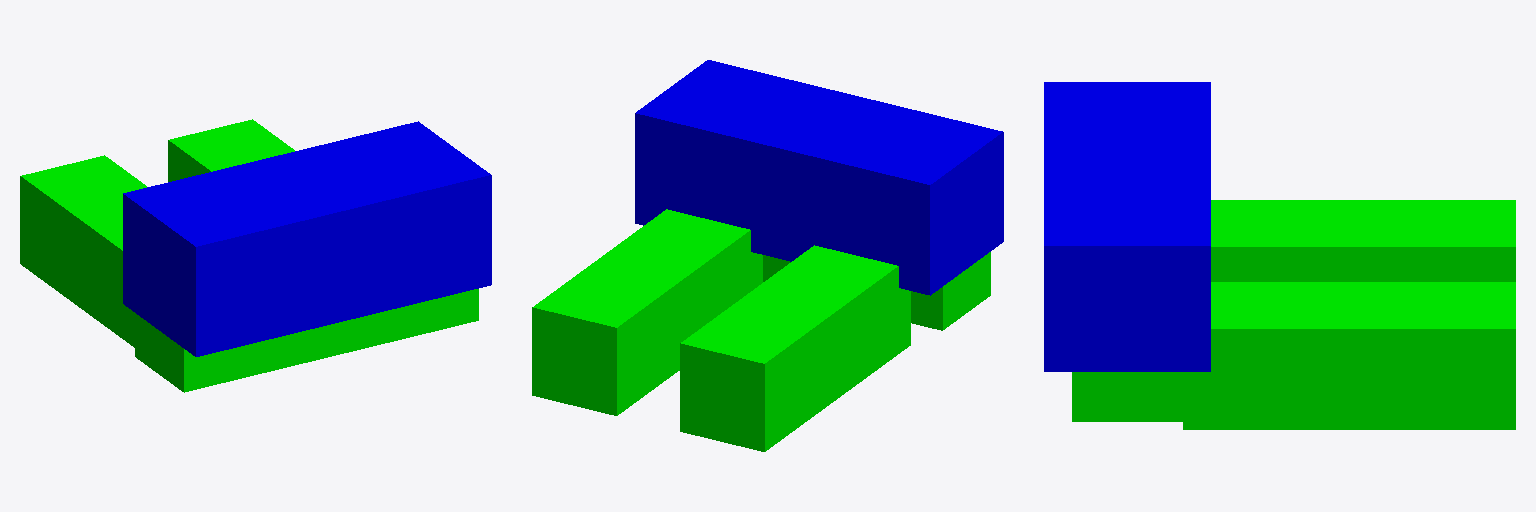
URDF robot description (robot):
<robot name = "robot">
    <link name="root">
        <inertial>
            <origin xyz="0.0 0.0 1.5" rpy="0 0 0"/>
            <mass value="1" />
            <inertia ixx="100" ixy="0" ixz="0" iyy="100" iyz="0" izz="100" />
        </inertial>
        <visual>
            <origin xyz="0.0 0.0 1.5" rpy="0 0 0"/>
            <geometry>
                <box size="0 0 0.0001" />
            </geometry>
            <material name="Green">
                <color rgba="0 1.0 0.0 1.0"/>
            </material>
        </visual>
        <collision>
            <origin xyz="0.0 0.0 1.5" rpy="0 0 0"/>
            <geometry>
                <box size="0 0 0.0001" />
            </geometry>
        </collision>
    </link>
    <joint name="root_000" type="revolute">
       <parent link="root"/>
       <child  link="000"/>
       <origin rpy="0 0 0" xyz="0.0 0.0 1.5" />
     <axis xyz="1 0 0"/>
       <limit effort="0.0" lower="-3.14159" upper="3.14159" velocity="0.0"/>
    </joint>
    <link name="000">
        <inertial>
            <origin xyz="0.35 0.0 0.0" rpy="0 0 0"/>
            <mass value="1" />
            <inertia ixx="100" ixy="0" ixz="0" iyy="100" iyz="0" izz="100" />
        </inertial>
        <visual>
            <origin xyz="0.35 0.0 0.0" rpy="0 0 0"/>
            <geometry>
                <box size="0.7 0.6 0.5" />
            </geometry>
            <material name="Blue">
                <color rgba="0 0.0 1.0 1.0"/>
            </material>
        </visual>
        <collision>
            <origin xyz="0.35 0.0 0.0" rpy="0 0 0"/>
            <geometry>
                <box size="0.7 0.6 0.5" />
            </geometry>
        </collision>
    </link>
    <joint name="000_010" type="revolute">
       <parent link="000"/>
       <child  link="010"/>
       <origin rpy="0 0 0" xyz="0.7 0.0 -0.0" />
     <axis xyz="1 0 0"/>
       <limit effort="0.0" lower="-3.14159" upper="3.14159" velocity="0.0"/>
    </joint>
    <link name="010">
        <inertial>
            <origin xyz="0.35 0.0 -0.0" rpy="0 0 0"/>
            <mass value="1" />
            <inertia ixx="100" ixy="0" ixz="0" iyy="100" iyz="0" izz="100" />
        </inertial>
        <visual>
            <origin xyz="0.35 0.0 -0.0" rpy="0 0 0"/>
            <geometry>
                <box size="0.7 0.6 0.5" />
            </geometry>
            <material name="Blue">
                <color rgba="0 0.0 1.0 1.0"/>
            </material>
        </visual>
        <collision>
            <origin xyz="0.35 0.0 -0.0" rpy="0 0 0"/>
            <geometry>
                <box size="0.7 0.6 0.5" />
            </geometry>
        </collision>
    </link>
    <joint name="010_010-100" type="revolute">
       <parent link="010"/>
       <child  link="010-100"/>
       <origin rpy="0 0 0" xyz="0.35 0.0 -0.25" />
     <axis xyz="0 0 1"/>
       <limit effort="0.0" lower="-3.14159" upper="3.14159" velocity="0.0"/>
    </joint>
    <link name="010-100">
        <inertial>
            <origin xyz="0.0 0.0 -0.1" rpy="0 0 0"/>
            <mass value="1" />
            <inertia ixx="100" ixy="0" ixz="0" iyy="100" iyz="0" izz="100" />
        </inertial>
        <visual>
            <origin xyz="0.0 0.0 -0.1" rpy="0 0 0"/>
            <geometry>
                <box size="0.7 0.4 0.2" />
            </geometry>
            <material name="Green">
                <color rgba="0 1.0 0.0 1.0"/>
            </material>
        </visual>
        <collision>
            <origin xyz="0.0 0.0 -0.1" rpy="0 0 0"/>
            <geometry>
                <box size="0.7 0.4 0.2" />
            </geometry>
        </collision>
    </link>
    <joint name="010-100_010-100-200" type="revolute">
       <parent link="010-100"/>
       <child  link="010-100-200"/>
       <origin rpy="0 0 0" xyz="0.0 0.2 -0.1" />
     <axis xyz="0 1 0"/>
       <limit effort="0.0" lower="-3.14159" upper="3.14159" velocity="0.0"/>
    </joint>
    <link name="010-100-200">
        <inertial>
            <origin xyz="0.0 0.3 -0.0" rpy="0 0 0"/>
            <mass value="1" />
            <inertia ixx="100" ixy="0" ixz="0" iyy="100" iyz="0" izz="100" />
        </inertial>
        <visual>
            <origin xyz="0.0 0.3 -0.0" rpy="0 0 0"/>
            <geometry>
                <box size="0.4 0.6 0.4" />
            </geometry>
            <material name="Green">
                <color rgba="0 1.0 0.0 1.0"/>
            </material>
        </visual>
        <collision>
            <origin xyz="0.0 0.3 -0.0" rpy="0 0 0"/>
            <geometry>
                <box size="0.4 0.6 0.4" />
            </geometry>
        </collision>
    </link>
    <joint name="010-100-200_010-100-210" type="revolute">
       <parent link="010-100-200"/>
       <child  link="010-100-210"/>
       <origin rpy="0 0 0" xyz="0.0 0.6 -0.0" />
     <axis xyz="0 1 0"/>
       <limit effort="0.0" lower="-3.14159" upper="3.14159" velocity="0.0"/>
    </joint>
    <link name="010-100-210">
        <inertial>
            <origin xyz="0.0 0.3 -0.0" rpy="0 0 0"/>
            <mass value="1" />
            <inertia ixx="100" ixy="0" ixz="0" iyy="100" iyz="0" izz="100" />
        </inertial>
        <visual>
            <origin xyz="0.0 0.3 -0.0" rpy="0 0 0"/>
            <geometry>
                <box size="0.4 0.6 0.4" />
            </geometry>
            <material name="Green">
                <color rgba="0 1.0 0.0 1.0"/>
            </material>
        </visual>
        <collision>
            <origin xyz="0.0 0.3 -0.0" rpy="0 0 0"/>
            <geometry>
                <box size="0.4 0.6 0.4" />
            </geometry>
        </collision>
    </link>
    <joint name="000_000-100" type="revolute">
       <parent link="000"/>
       <child  link="000-100"/>
       <origin rpy="0 0 0" xyz="0.35 0.0 -0.25" />
     <axis xyz="0 0 1"/>
       <limit effort="0.0" lower="-3.14159" upper="3.14159" velocity="0.0"/>
    </joint>
    <link name="000-100">
        <inertial>
            <origin xyz="0.0 0.0 -0.1" rpy="0 0 0"/>
            <mass value="1" />
            <inertia ixx="100" ixy="0" ixz="0" iyy="100" iyz="0" izz="100" />
        </inertial>
        <visual>
            <origin xyz="0.0 0.0 -0.1" rpy="0 0 0"/>
            <geometry>
                <box size="0.7 0.4 0.2" />
            </geometry>
            <material name="Green">
                <color rgba="0 1.0 0.0 1.0"/>
            </material>
        </visual>
        <collision>
            <origin xyz="0.0 0.0 -0.1" rpy="0 0 0"/>
            <geometry>
                <box size="0.7 0.4 0.2" />
            </geometry>
        </collision>
    </link>
    <joint name="000-100_000-100-200" type="revolute">
       <parent link="000-100"/>
       <child  link="000-100-200"/>
       <origin rpy="0 0 0" xyz="0.0 0.2 -0.1" />
     <axis xyz="0 1 0"/>
       <limit effort="0.0" lower="-3.14159" upper="3.14159" velocity="0.0"/>
    </joint>
    <link name="000-100-200">
        <inertial>
            <origin xyz="0.0 0.3 -0.0" rpy="0 0 0"/>
            <mass value="1" />
            <inertia ixx="100" ixy="0" ixz="0" iyy="100" iyz="0" izz="100" />
        </inertial>
        <visual>
            <origin xyz="0.0 0.3 -0.0" rpy="0 0 0"/>
            <geometry>
                <box size="0.4 0.6 0.4" />
            </geometry>
            <material name="Green">
                <color rgba="0 1.0 0.0 1.0"/>
            </material>
        </visual>
        <collision>
            <origin xyz="0.0 0.3 -0.0" rpy="0 0 0"/>
            <geometry>
                <box size="0.4 0.6 0.4" />
            </geometry>
        </collision>
    </link>
    <joint name="000-100-200_000-100-210" type="revolute">
       <parent link="000-100-200"/>
       <child  link="000-100-210"/>
       <origin rpy="0 0 0" xyz="0.0 0.6 -0.0" />
     <axis xyz="0 1 0"/>
       <limit effort="0.0" lower="-3.14159" upper="3.14159" velocity="0.0"/>
    </joint>
    <link name="000-100-210">
        <inertial>
            <origin xyz="0.0 0.3 -0.0" rpy="0 0 0"/>
            <mass value="1" />
            <inertia ixx="100" ixy="0" ixz="0" iyy="100" iyz="0" izz="100" />
        </inertial>
        <visual>
            <origin xyz="0.0 0.3 -0.0" rpy="0 0 0"/>
            <geometry>
                <box size="0.4 0.6 0.4" />
            </geometry>
            <material name="Green">
                <color rgba="0 1.0 0.0 1.0"/>
            </material>
        </visual>
        <collision>
            <origin xyz="0.0 0.3 -0.0" rpy="0 0 0"/>
            <geometry>
                <box size="0.4 0.6 0.4" />
            </geometry>
        </collision>
    </link>
</robot>

--- What the picture shows (computed from the rendered views, not written in the file) ---
3 views of the same robot in one strip: view 1: azimuth 30°, elevation 25°; view 2: azimuth 150°, elevation 25°; view 3: azimuth 270°, elevation 25° (orthographic).
Model robot with 9 links and 8 joints (8 revolute), rooted at root, posed all joints at 0.
Visible links, largest first — view 1: 000, 010, [phone redacted] (×3), 000-100, 010-100; view 2: [phone redacted] (×4), 000, 010, 000-100; view 3: [phone redacted] (×4), 010, 000, 010-100.
Link boxes in pixels (x1=…): 000: x1=123, y1=157, x2=343, y2=356; 010: x1=271, y1=121, x2=491, y2=320; [phone redacted] (×3): x1=20, y1=119, x2=294, y2=347; 000-100: x1=135, y1=313, x2=331, y2=392; 010-100: x1=332, y1=289, x2=478, y2=355; [phone redacted] (×4): x1=532, y1=209, x2=910, y2=451; 000: x1=783, y1=96, x2=1003, y2=295; 010: x1=635, y1=60, x2=854, y2=259; 000-100: x1=911, y1=252, x2=990, y2=330; [phone redacted] (×4): x1=1183, y1=200, x2=1515, y2=429; 010: x1=1044, y1=164, x2=1210, y2=371; 000: x1=1044, y1=82, x2=1210, y2=163; 010-100: x1=1072, y1=372, x2=1182, y2=421.
Size in the robot's own frame: 1.4 by 1.7 by 0.8 metres.
Geometry: primitives only (box / cylinder / sphere), no mesh files.
